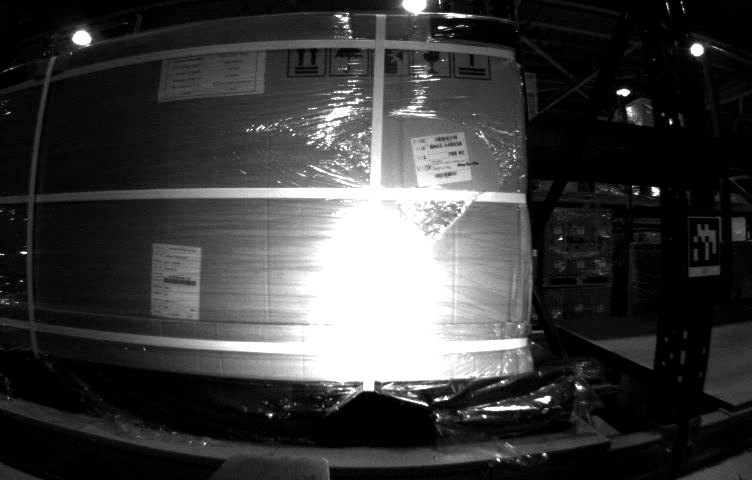True Barcode: (411, 131, 471, 188)
